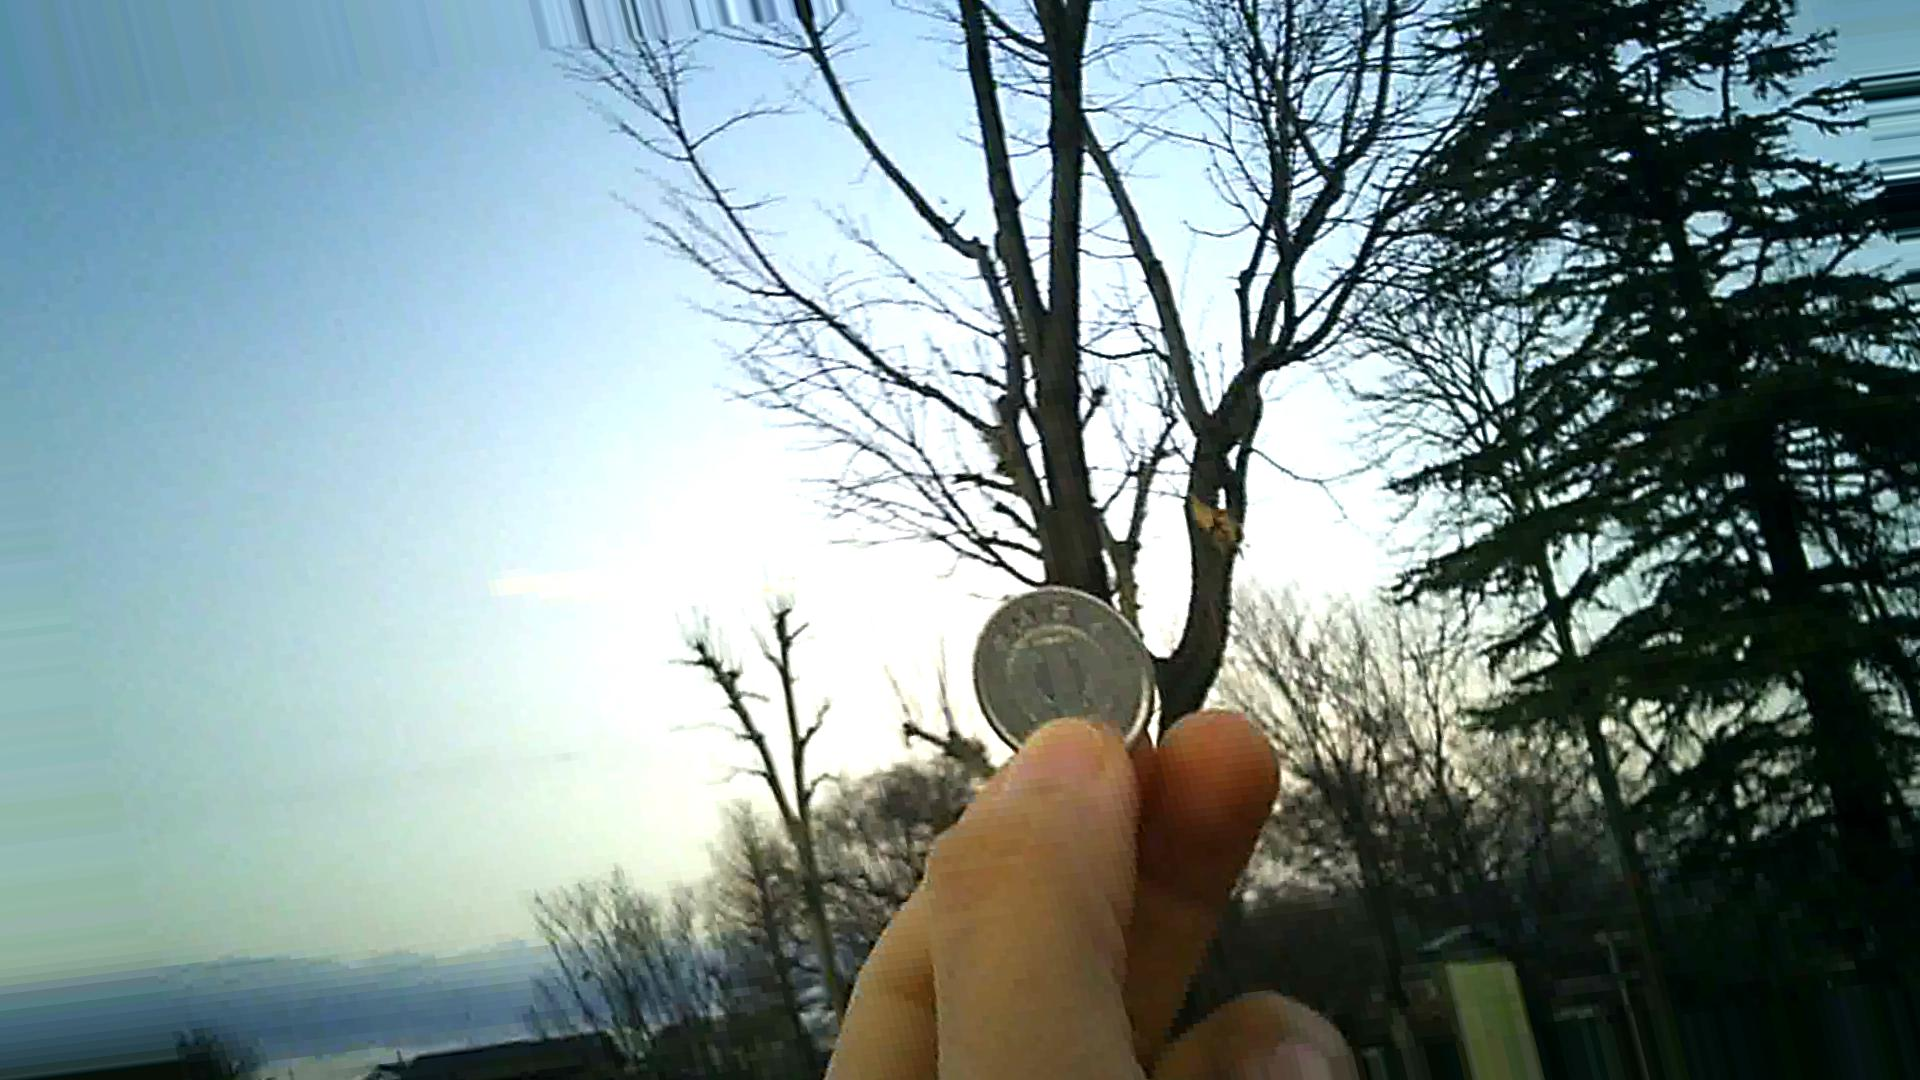1 Yen: (971, 584, 1164, 749)
